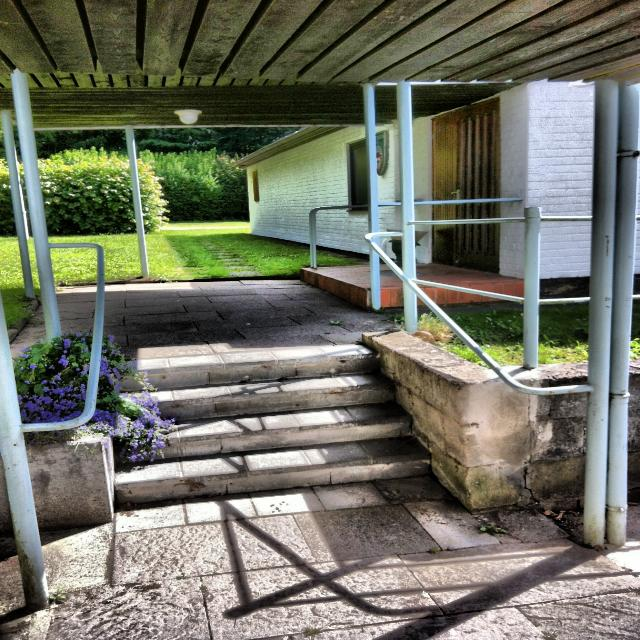escada: (107, 358, 433, 506)
